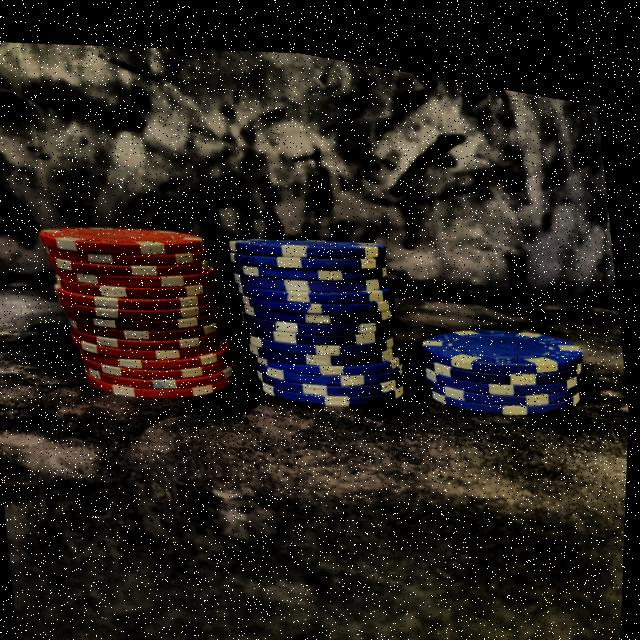Chip: (30, 168, 243, 426), (218, 187, 416, 431), (407, 270, 593, 427)
